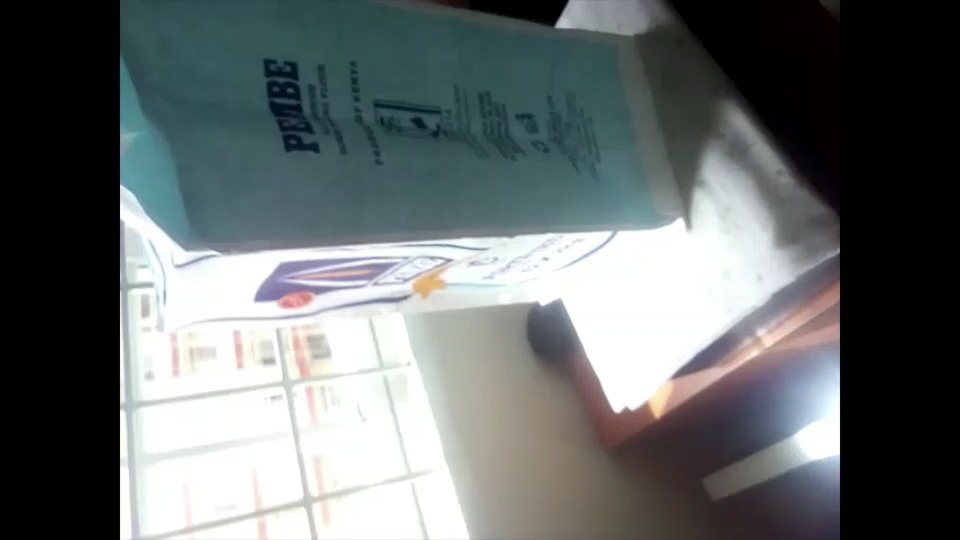wheat_flour_blue_label: (122, 0, 688, 319)
